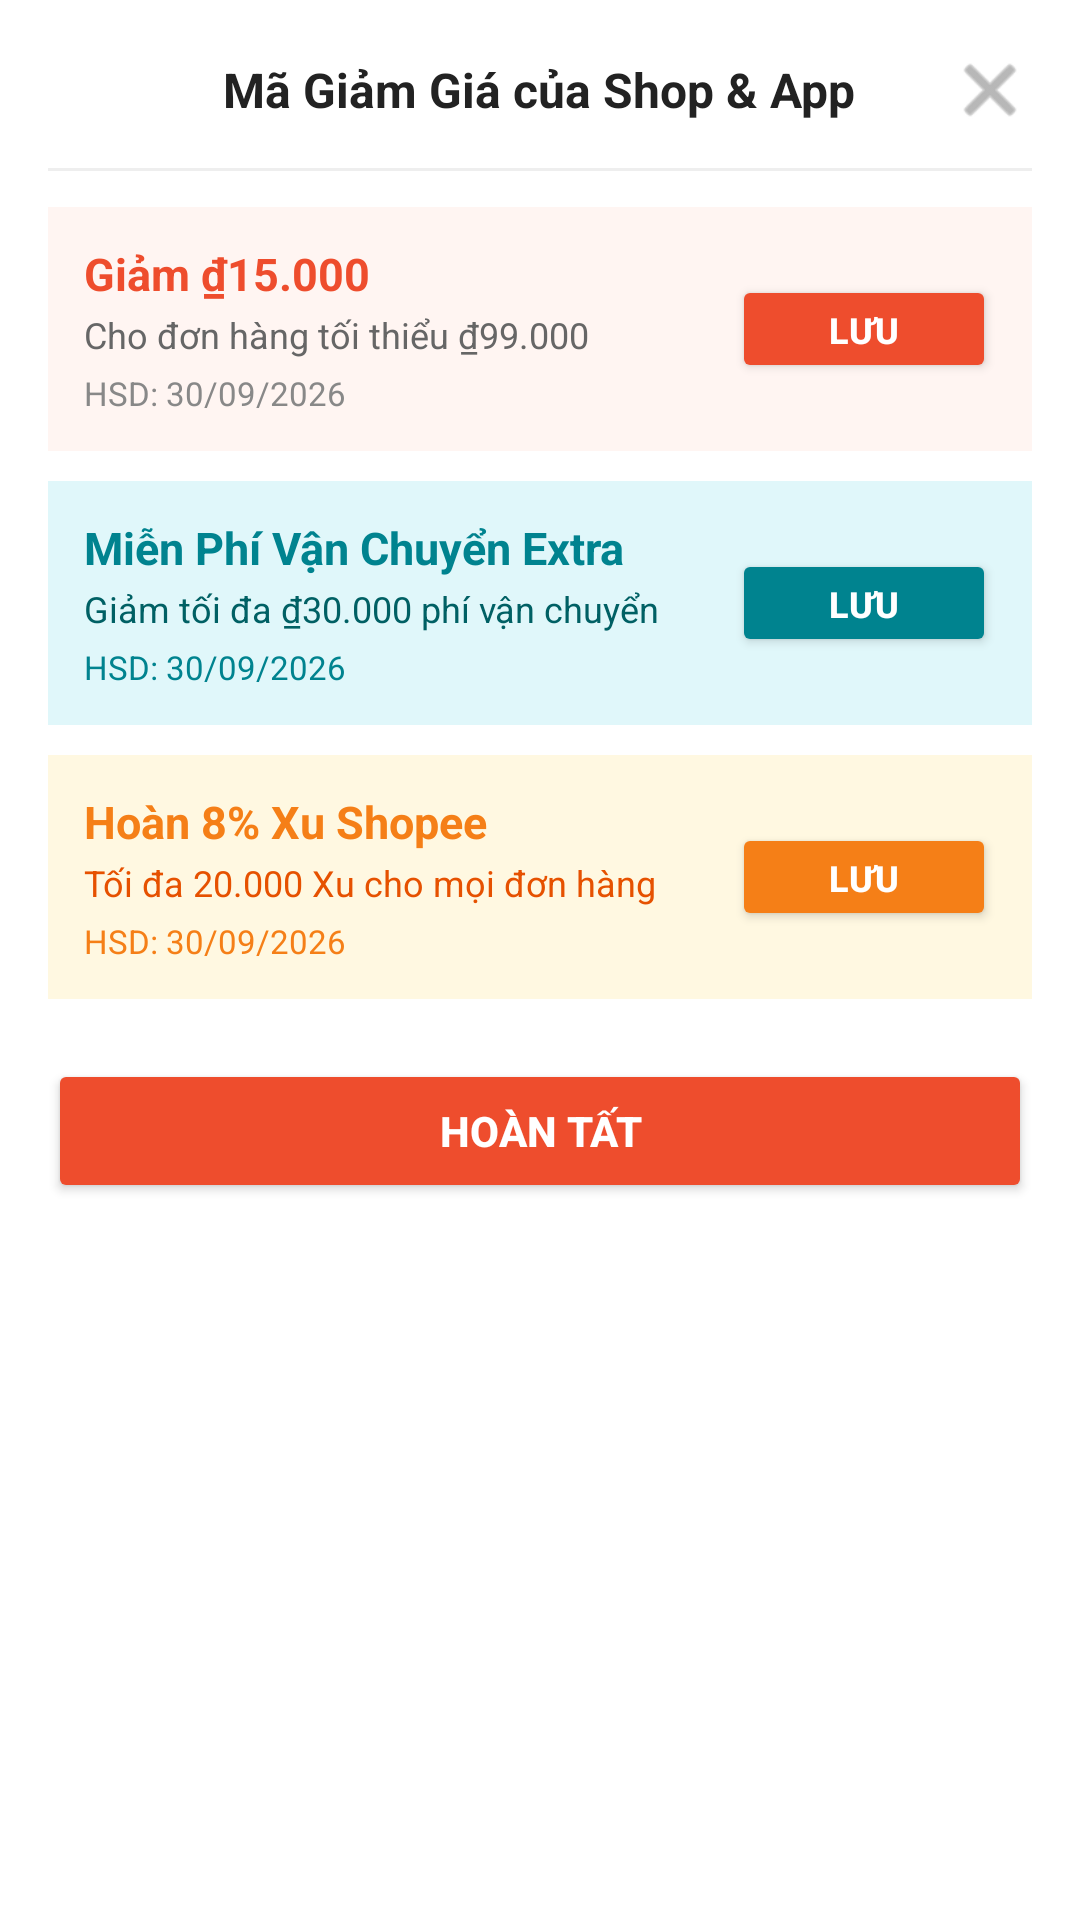

Icons on this 1080px x 1920px Android screen, each with the point to tap as [x,y]:
close clear cancel: [990,90]
